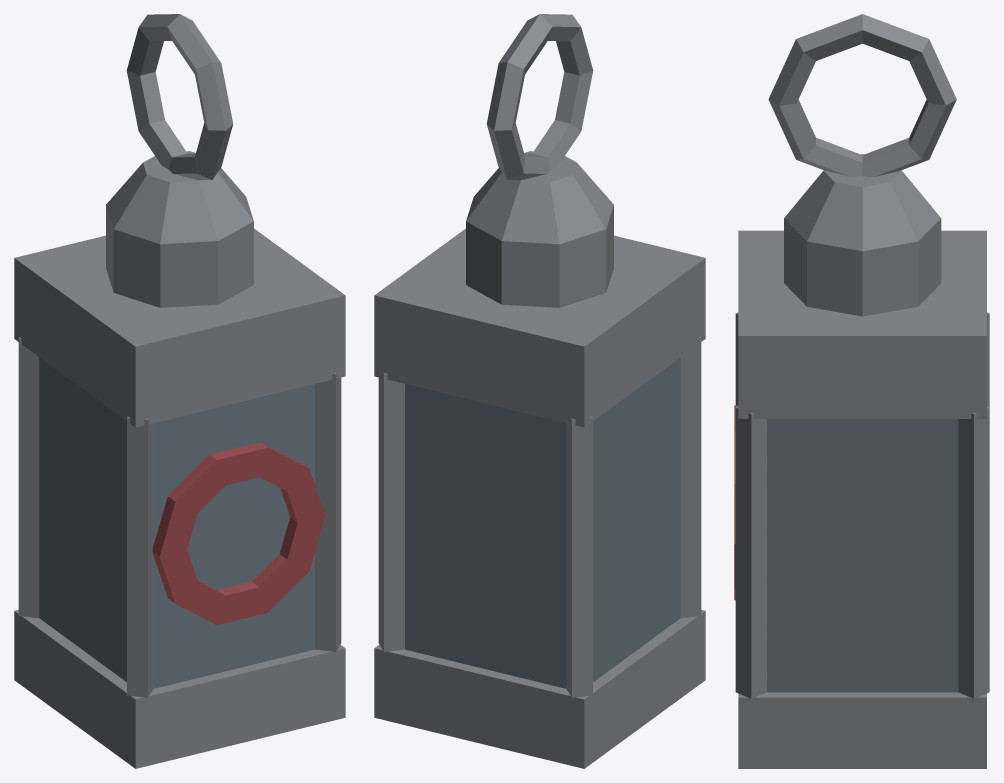
Rendered from steam-era-railway-and-rolling-stock-hand-lamp-f8991f76.glb.
The picture shows the model from 3 angles, left to right: view 1: azimuth 30°, elevation 25°; view 2: azimuth 150°, elevation 25°; view 3: azimuth 270°, elevation 25°; orthographic projection. The views are drawn at different scales.
Parts seen in each view (by area): view 1: hand-lamp; view 2: hand-lamp; view 3: hand-lamp.
Part boxes in pixels (x1=…): hand-lamp: x1=14, y1=14, x2=345, y2=768; hand-lamp: x1=374, y1=14, x2=705, y2=768; hand-lamp: x1=734, y1=14, x2=989, y2=768.
Bounding box in the file's own units: 0.194 × 0.592 × 0.195.
